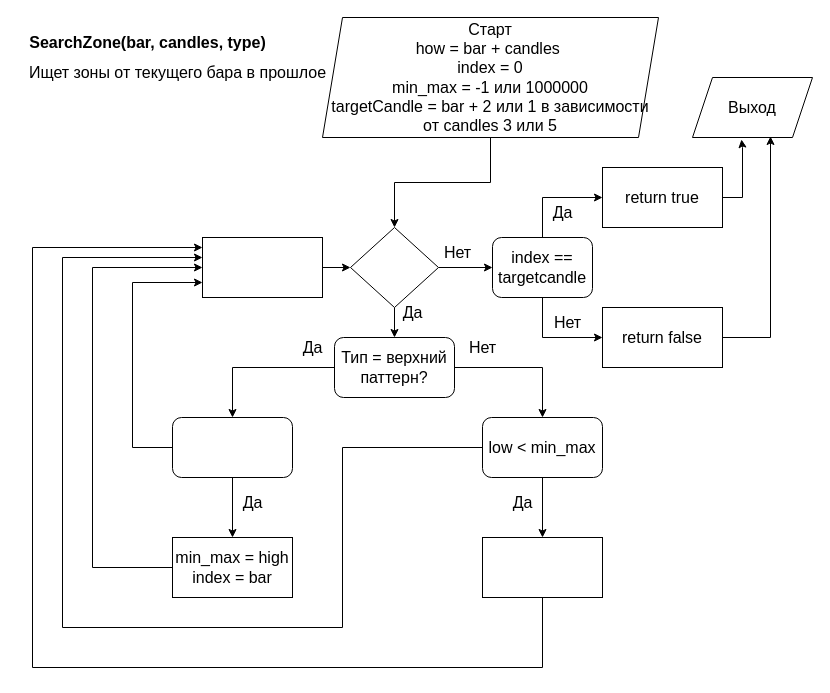
This 830x693 diagram has some shape labels left out. The box of each missing label's shape, as (x1, y1, x2, y2) in pixels:
bar < how: (350, 226, 438, 308)
bar++: (202, 236, 322, 298)
high> min_max: (172, 416, 292, 478)
min_max = low index = bar: (482, 536, 602, 598)
